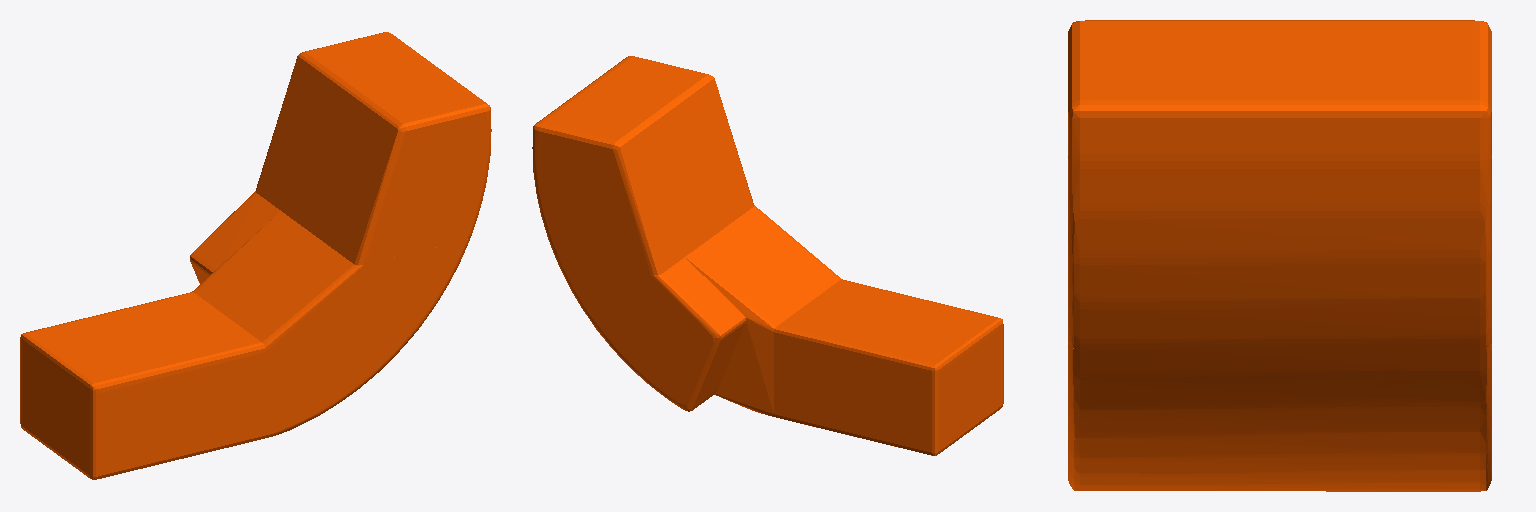
The robot description file, URDF, robot "Lego":
<?xml version="1.0" ?>
<robot name="Lego">
   <material name="obj_color">
      <color rgba="1.0 0.423529411765 0.0392156862745 1.0"/>
   </material>
   <link name="top">
      <inertial>
         <origin rpy="0.0001632272682903366 0.0006841666328591307 0.0007019358104819392" xyz="0.01243451753070805 -0.002755404071568744 -0.006831581728473388"/>
         <mass value="0.4242477809042481"/>
         <inertia ixx="0.0003058630682760525" ixy="-4.678035148800918e-05" ixz="-0.000233021411815357" iyy="0.000679777045845315" iyz="-2.31434054784607e-05" izz="0.0005636895975100395"/>
      </inertial>
      <visual>
         <origin rpy="0 0 0" xyz="0 0 0"/>
         <geometry>
            <mesh filename="top_watertight_tiny.obj" scale="1 1 1"/>
         </geometry>
         <material name="obj_color"/>
      </visual>
      <collision>
         <origin rpy="0 0 0" xyz="0 0 0"/>
         <geometry>
            <mesh filename="top_watertight_tiny.obj" scale="1 1 1"/>
         </geometry>
      </collision>
   </link>
</robot>

--- Facts derived from the render (not from the file) ---
The picture shows the robot from 3 angles, left to right: view 1: azimuth 30°, elevation 25°; view 2: azimuth 150°, elevation 25°; view 3: azimuth 270°, elevation 25°; orthographic projection.
Robot: Lego — 1 links, 0 joints (none); root link top; default pose: every joint at zero.
Visible links, largest first — view 1: top; view 2: top; view 3: top.
Link boxes in pixels (bbox=[...]): top: bbox=[20, 32, 491, 479]; top: bbox=[532, 56, 1003, 455]; top: bbox=[1068, 20, 1491, 491].
Size in the robot's own frame: 0.1226 by 0.0551 by 0.082 metres.
1 mesh visuals loaded from 1 distinct referenced files (1 OBJ).